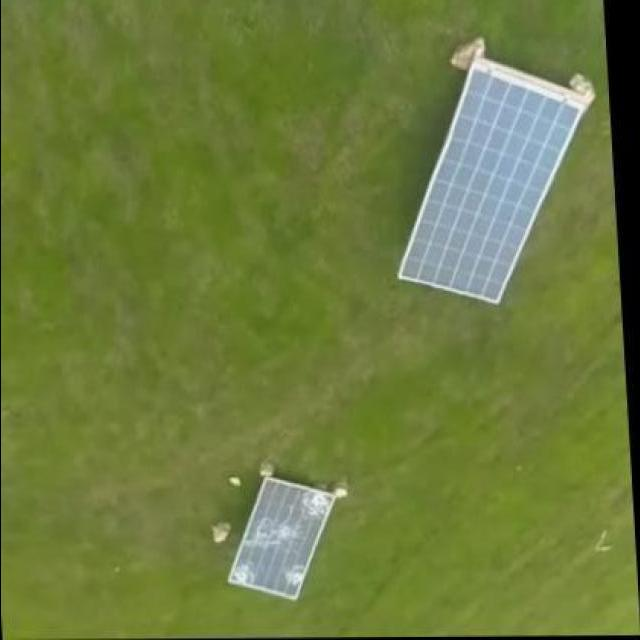cracked: (227, 466, 337, 602)
